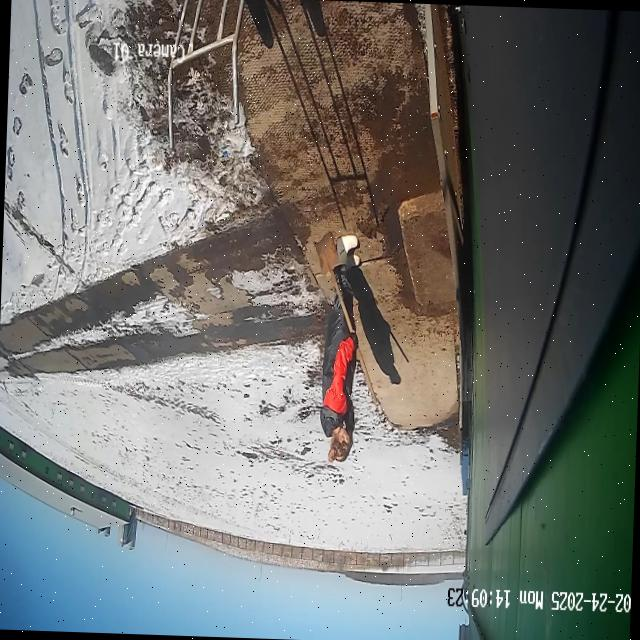Red uniform: (316, 232, 365, 466)
